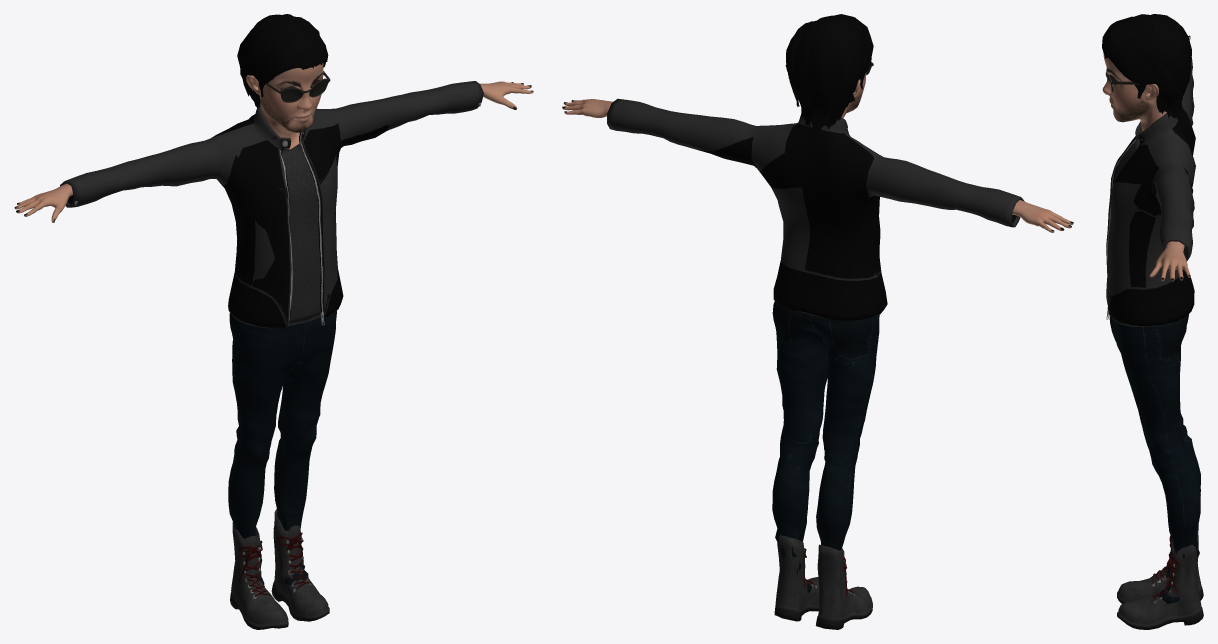
File: Rockero 2.obj
3 renders of one model, left to right at view 1: azimuth 30°, elevation 25°; view 2: azimuth 150°, elevation 25°; view 3: azimuth 270°, elevation 25°, orthographic.
Visible parts, largest first — view 1: Tops, Bottoms, Shoes, Body, Hair; view 2: Tops, Bottoms, Hair, Shoes, Body; view 3: Tops, Bottoms, Hair, Shoes, Body.
Boxes of the visible parts, x1=… form: Tops: x1=60, y1=81, x2=483, y2=328; Bottoms: x1=228, y1=311, x2=336, y2=585; Shoes: x1=230, y1=509, x2=329, y2=629; Body: x1=14, y1=63, x2=533, y2=222; Hair: x1=237, y1=14, x2=328, y2=107; Tops: x1=607, y1=98, x2=1024, y2=321; Bottoms: x1=772, y1=301, x2=879, y2=592; Hair: x1=785, y1=14, x2=873, y2=131; Shoes: x1=774, y1=535, x2=872, y2=629; Body: x1=562, y1=72, x2=1073, y2=232; Tops: x1=1106, y1=57, x2=1195, y2=327; Bottoms: x1=1109, y1=314, x2=1200, y2=603; Hair: x1=1102, y1=14, x2=1191, y2=120; Shoes: x1=1117, y1=525, x2=1203, y2=629; Body: x1=1102, y1=35, x2=1190, y2=281.
Size of the model in its own units: 153 by 170 by 26.28.
Materials: 2 (2 with a texture image).
